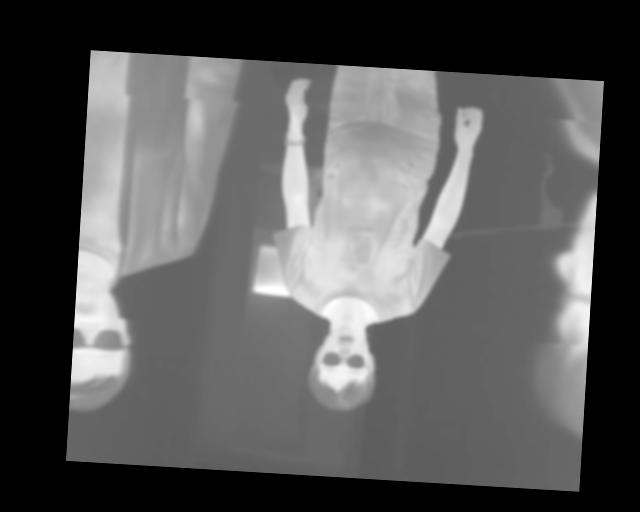face: (68, 277, 137, 417), (305, 320, 380, 415)
